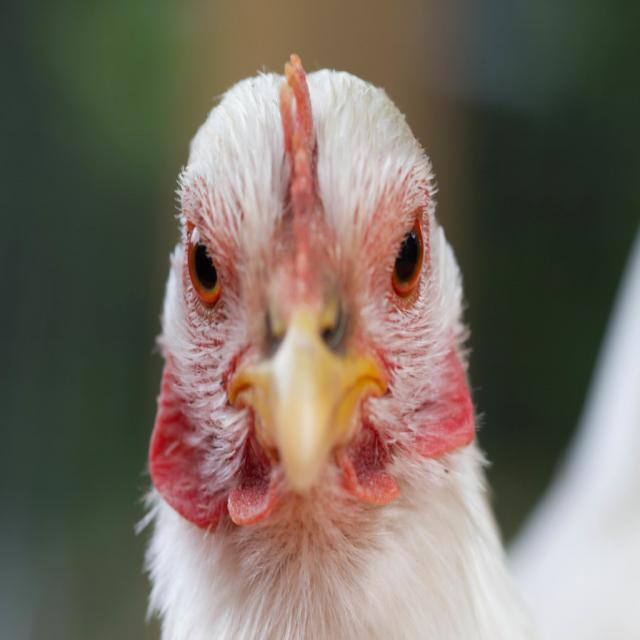Chicken: (143, 50, 517, 640)
